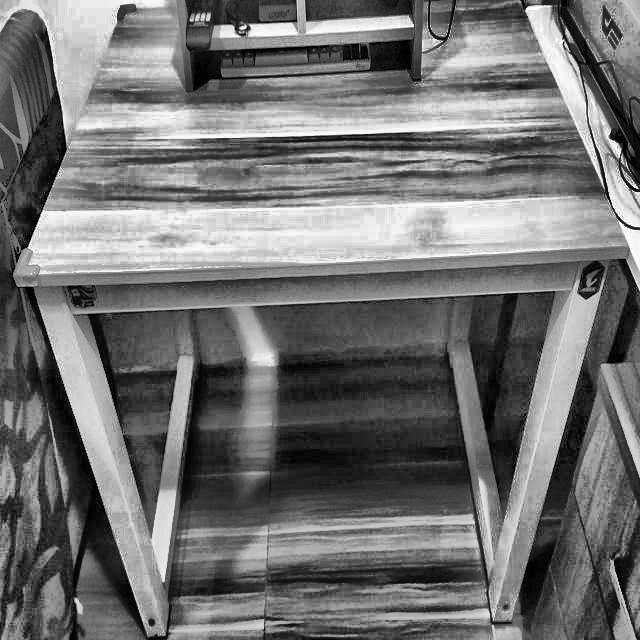mesa: (15, 0, 640, 637)
